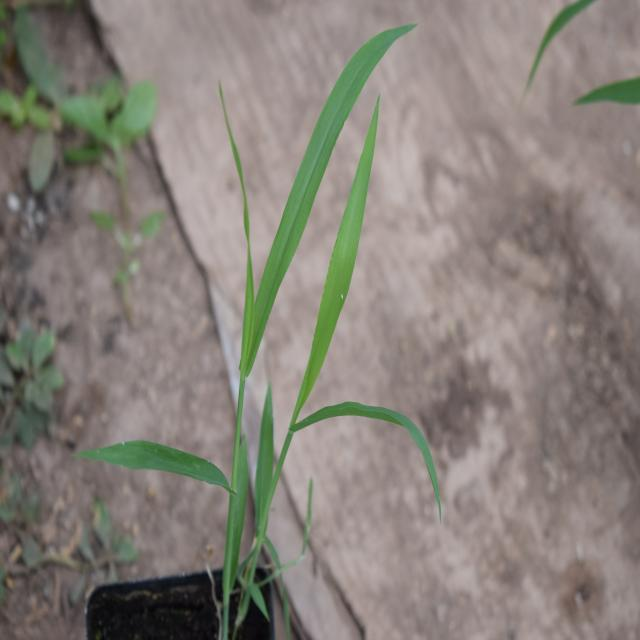crabgrass: (147, 32, 446, 534)
